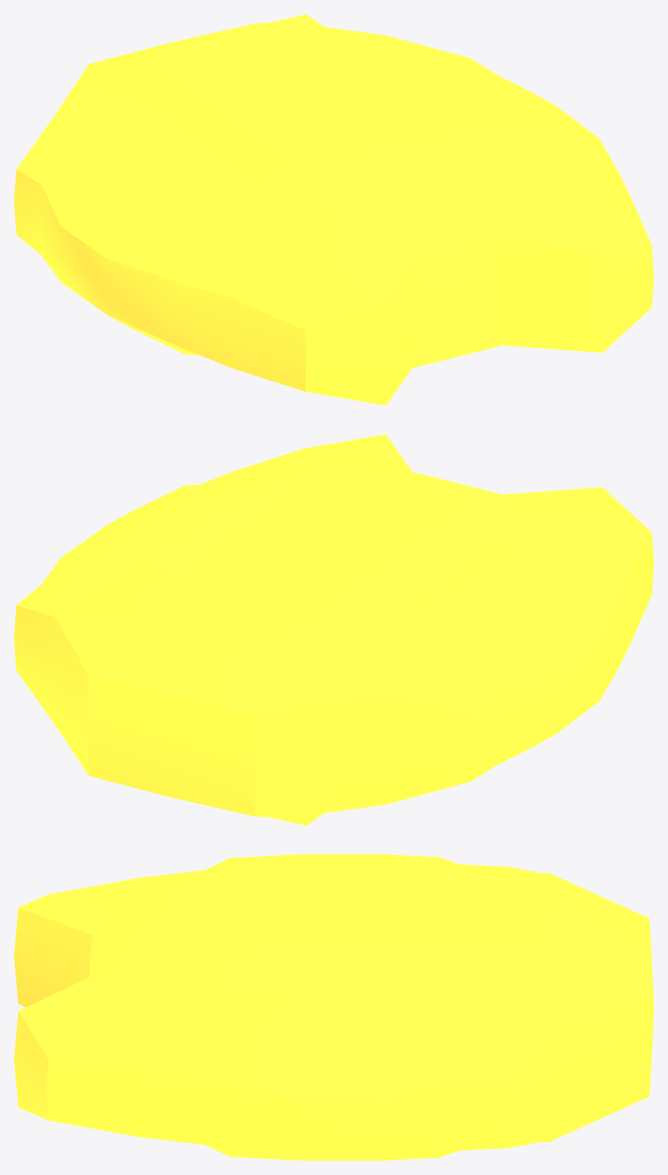
Rendered from 01_ship_light_hakkur_aegis.glb.
3 renders of one model, top to bottom at view 1: azimuth 30°, elevation 25°; view 2: azimuth 150°, elevation 25°; view 3: azimuth 270°, elevation 25°, orthographic. The views are drawn at different scales.
Parts seen in each view (by area): view 1: 01_ship_light_hakkur_aegis; view 2: 01_ship_light_hakkur_aegis; view 3: 01_ship_light_hakkur_aegis.
Part boxes in pixels (left/top/right/bottom): 01_ship_light_hakkur_aegis: left=14, top=14, right=653, bottom=405; 01_ship_light_hakkur_aegis: left=14, top=434, right=653, bottom=825; 01_ship_light_hakkur_aegis: left=14, top=854, right=653, bottom=1160.
Bounding box in the file's own units: 0.9544 × 0.3565 × 1.07.
